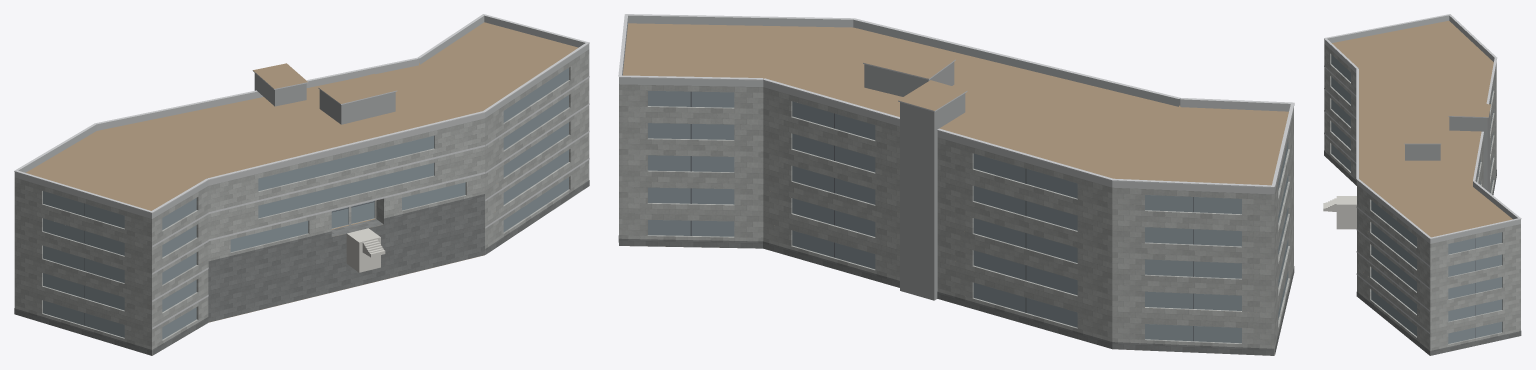
The picture shows the model from 3 angles, left to right: view 1: azimuth 30°, elevation 25°; view 2: azimuth 150°, elevation 25°; view 3: azimuth 270°, elevation 25°; orthographic projection. The views are drawn at different scales.
Parts seen in each view (by area): view 1: b127__wall, b127__roof, b127__glass, b127__base, b127__parapet, b127__trim, b127__wall2, b127__entranceStair; view 2: b127__wall, b127__roof, b127__glass, b127__parapet, b127__wall2, b127__base, b127__trim; view 3: b127__roof, b127__wall, b127__glass, b127__trim, b127__parapet, b127__wall2, b127__base, b127__entranceStair.
Boxes of the visible parts, left/top/right/bottom form: b127__wall: left=14, top=49, right=589, bottom=355; b127__roof: left=26, top=22, right=578, bottom=322; b127__glass: left=43, top=68, right=568, bottom=339; b127__base: left=14, top=180, right=589, bottom=355; b127__parapet: left=14, top=15, right=589, bottom=218; b127__trim: left=14, top=14, right=589, bottom=329; b127__wall2: left=254, top=73, right=395, bottom=124; b127__entranceStair: left=346, top=228, right=385, bottom=272; b127__wall: left=619, top=84, right=1293, bottom=355; b127__roof: left=622, top=23, right=1288, bottom=247; b127__glass: left=648, top=91, right=1288, bottom=343; b127__parapet: left=619, top=15, right=1293, bottom=194; b127__wall2: left=864, top=62, right=965, bottom=300; b127__base: left=618, top=235, right=1294, bottom=355; b127__trim: left=618, top=14, right=1294, bottom=187; b127__roof: left=1332, top=21, right=1512, bottom=237; b127__wall: left=1324, top=44, right=1520, bottom=355; b127__glass: left=1331, top=54, right=1502, bottom=343; b127__trim: left=1324, top=14, right=1521, bottom=333; b127__parapet: left=1324, top=15, right=1520, bottom=243; b127__wall2: left=1405, top=112, right=1489, bottom=192; b127__base: left=1324, top=150, right=1521, bottom=355; b127__entranceStair: left=1323, top=196, right=1356, bottom=229.
Size of the model in its own units: 77.6 by 21.29 by 28.89.
Materials: 10 (2 with a texture image).
